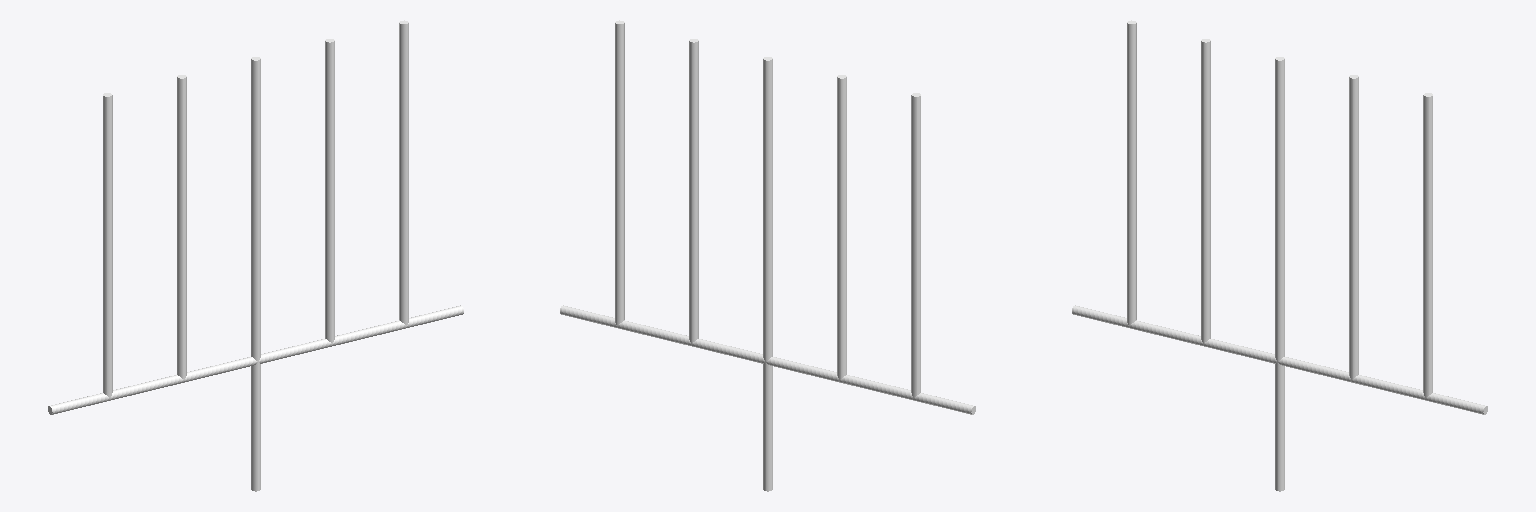
robot.urdf — test_tree:
<?xml version="1.0" ?>
<robot name="test_tree">
<!--  <link concave="yes" name="baseLink">-->
  <link concave="no" name="baseLink">
    <inertial>
      <origin rpy="0 0 0" xyz="0 0 0"/>
       <mass value=".0"/>
       <inertia ixx="0" ixy="0" ixz="0" iyy="0" iyz="0" izz="0"/>
    </inertial>
    <visual>
      <origin rpy="0 0 0" xyz="0 0 0"/>
      <geometry>
				<mesh filename="test-tree.obj" scale="1 1 1"/>
      </geometry>
       <material name="white">
        <color rgba="1 1 1 1"/>
      </material>
    </visual>
    <collision concave="no">
<!--    <collision concave="yes">-->
      <origin rpy="0 0 0" xyz="0 0 0"/>
     <geometry>
				<mesh filename="test-tree.obj" scale="1 1 1"/>
      </geometry>
    </collision>
  </link>
</robot>

--- Render facts (derived) ---
Views: 3 orthographic renders of the robot side by side, from view 1: azimuth 30°, elevation 25°; view 2: azimuth 150°, elevation 25°; view 3: azimuth 330°, elevation 25°.
Robot: test_tree — 1 links, 0 joints (none); root link baseLink; default pose: every joint at zero.
Links seen in each view (by area): view 1: baseLink; view 2: baseLink; view 3: baseLink.
Link boxes in pixels (x1,y1,x2,y2): baseLink: (48,20,463,491); baseLink: (560,20,975,491); baseLink: (1072,20,1487,491).
Bounding box of the posed robot: 1 × 0.02 × 1 m (x, y, z).
1 mesh visuals loaded from 1 distinct referenced files (1 OBJ).